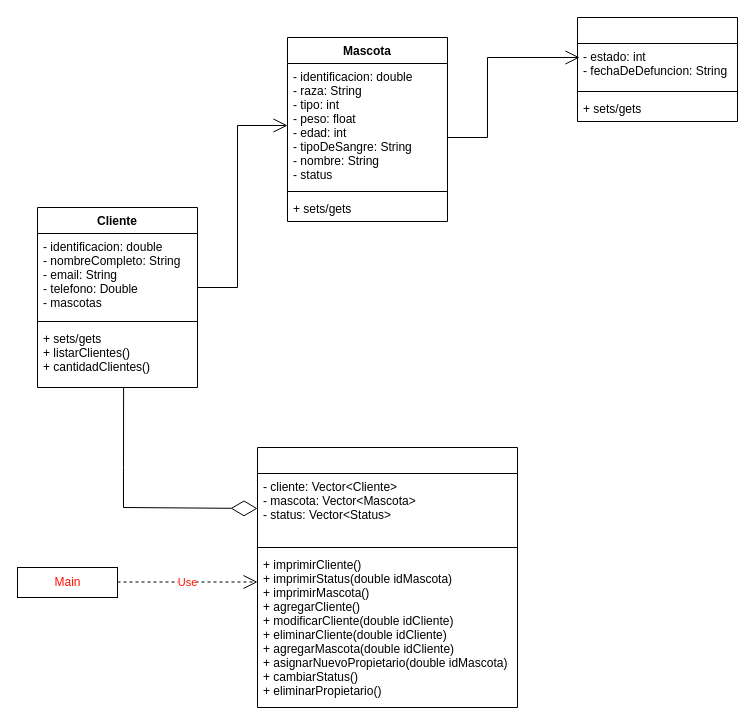
Some shapes in this 755 by 728 pixel diagram are drawn without their labels. Each missing label, with the box of its shape:
Directorio: (256, 446, 518, 708)
Status: (576, 16, 738, 122)
